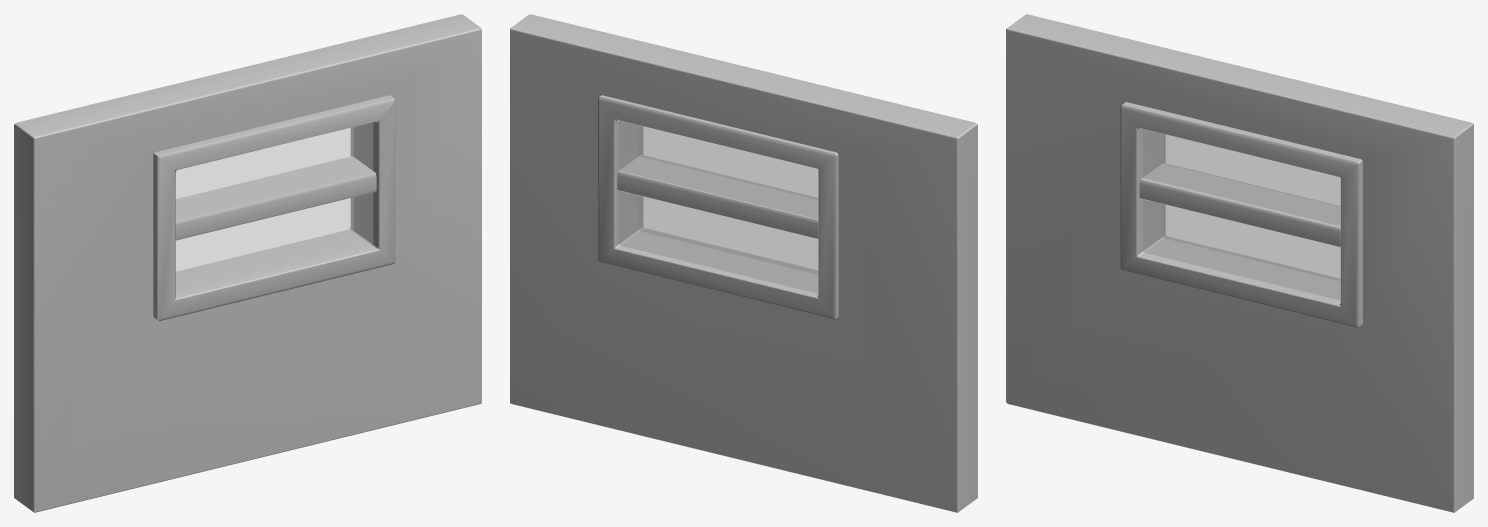
The model's file is Wall_56.fbx.
The picture shows the model from 3 angles, left to right: view 1: azimuth 30°, elevation 25°; view 2: azimuth 150°, elevation 25°; view 3: azimuth 330°, elevation 25°; orthographic projection.
Visible parts, largest first — view 1: Wall_56; view 2: Wall_56; view 3: Wall_56.
Boxes of the visible parts, <box> form: Wall_56: <box>14,14,481,512</box>; Wall_56: <box>510,14,977,512</box>; Wall_56: <box>1006,14,1473,512</box>.
Size of the model in its own units: 500 by 400 by 55.95.
